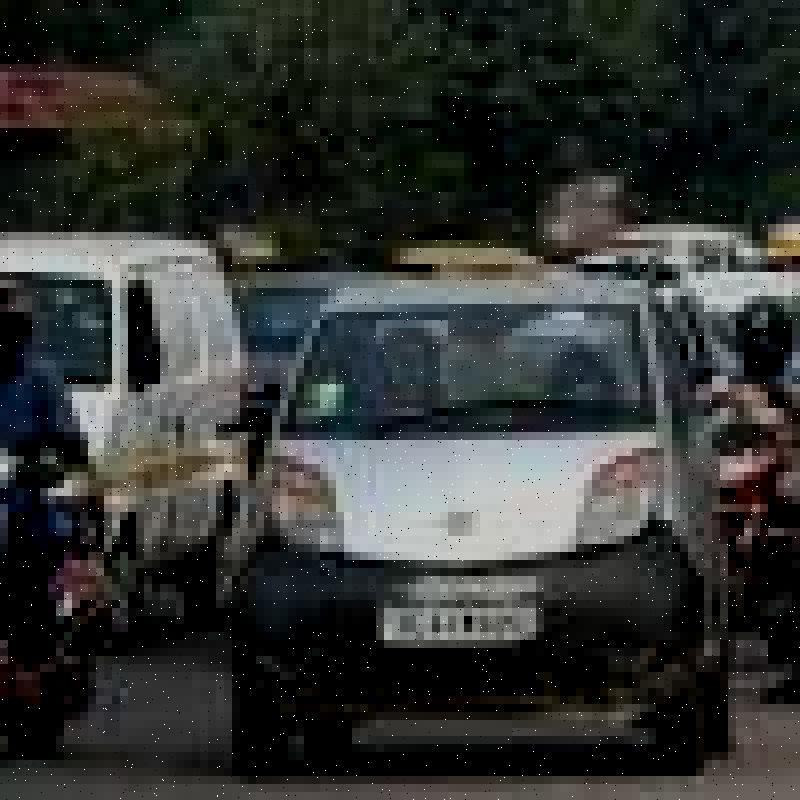car: (258, 287, 744, 751), (13, 190, 259, 634)
